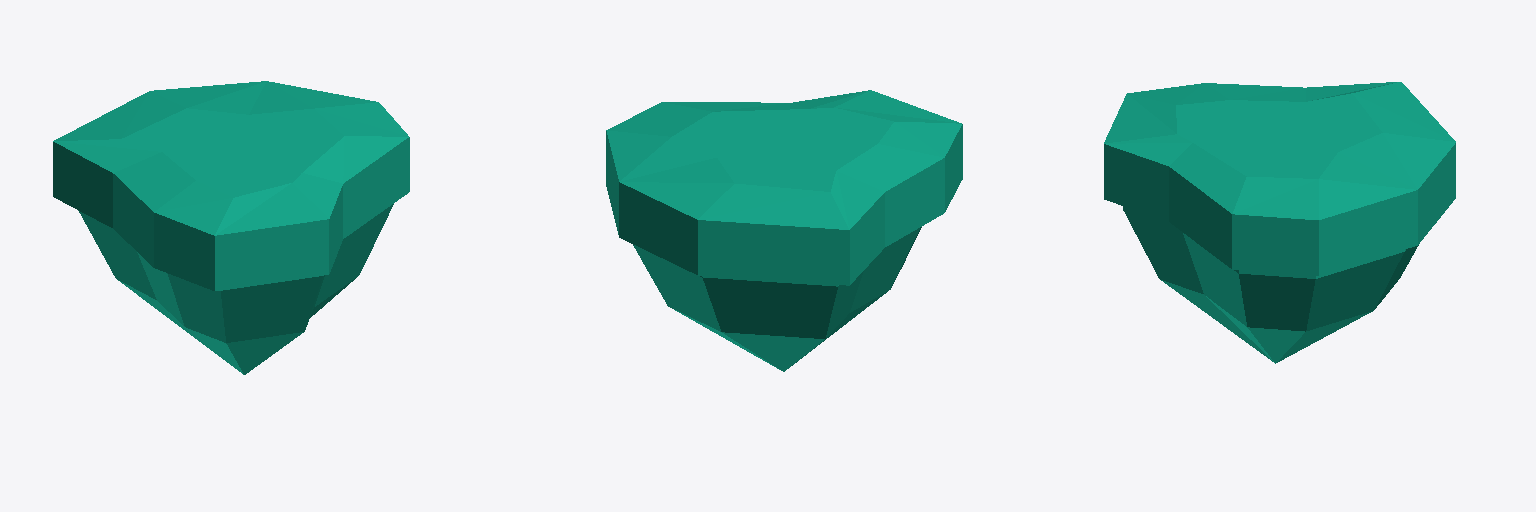
Rendered from land4.obj.
The picture shows the model from 3 angles: view 1: azimuth 30°, elevation 25°; view 2: azimuth 150°, elevation 25°; view 3: azimuth 270°, elevation 25°; orthographic projection.
Visible parts, largest first — view 1: g4, land4; view 2: g4, land4; view 3: g4, land4.
Part boxes in pixels (x1,y1,x2,y2): g4: (53,81,409,290); land4: (78,204,393,374); g4: (606,90,962,285); land4: (633,227,921,371); g4: (1104,82,1455,275); land4: (1123,206,1418,363).
Size of the model in its own units: 34.19 by 26.27 by 36.67.